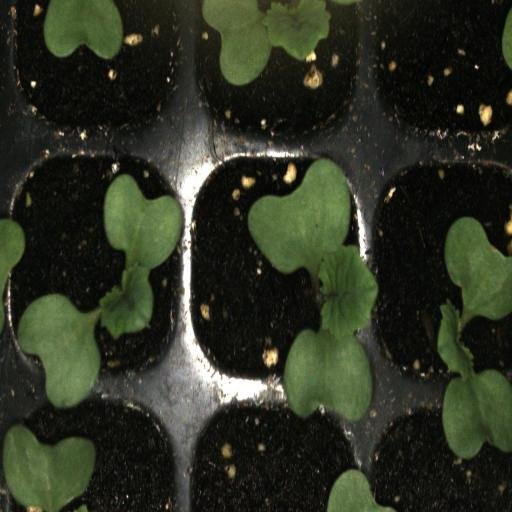seedling: (183, 150, 371, 393), (5, 150, 185, 394), (371, 150, 512, 395), (185, 0, 367, 147)
